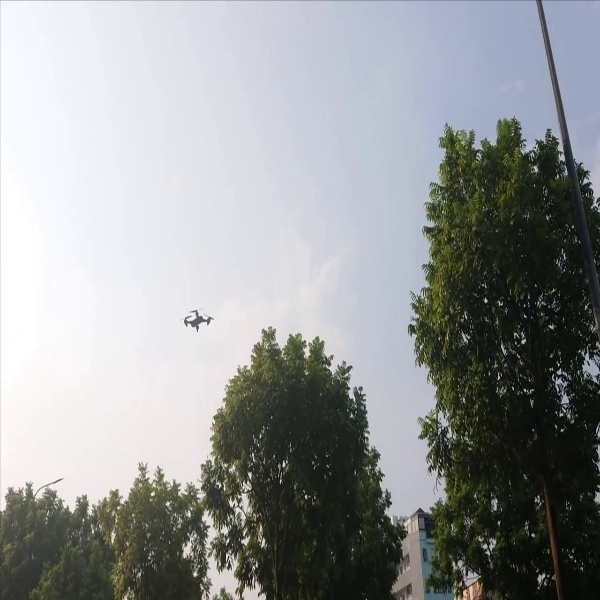drone: (180, 299, 216, 336)
